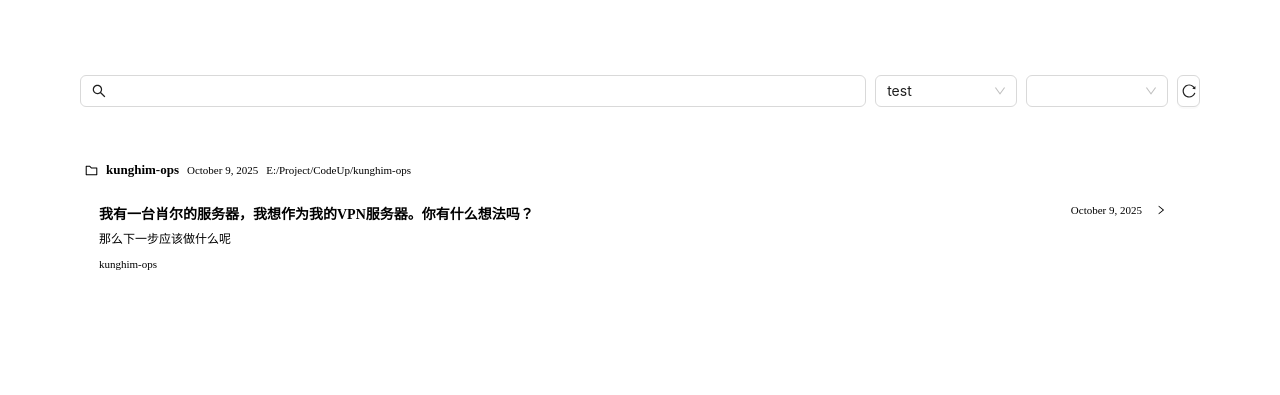
Scenario: SessionAgentWorkbench › renders the chat timeline with user bubble and exec section
This screenshot has width=1280, height=395.
Click the button that starts with "我有一台肖尔的服务器，我想作为我的VPN服务器。你有什么想法吗？": (316, 214) x1=81 y1=187 x2=1184 y2=287
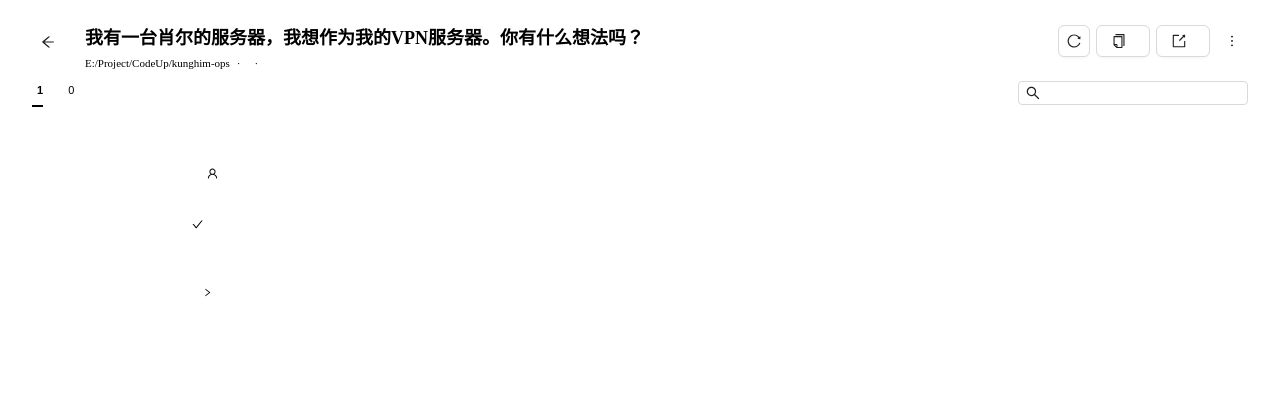
Result: the element that starts with "我有一台肖尔的服务器，我想作为我的VPN服务器。你有什么想法吗？" is shown
